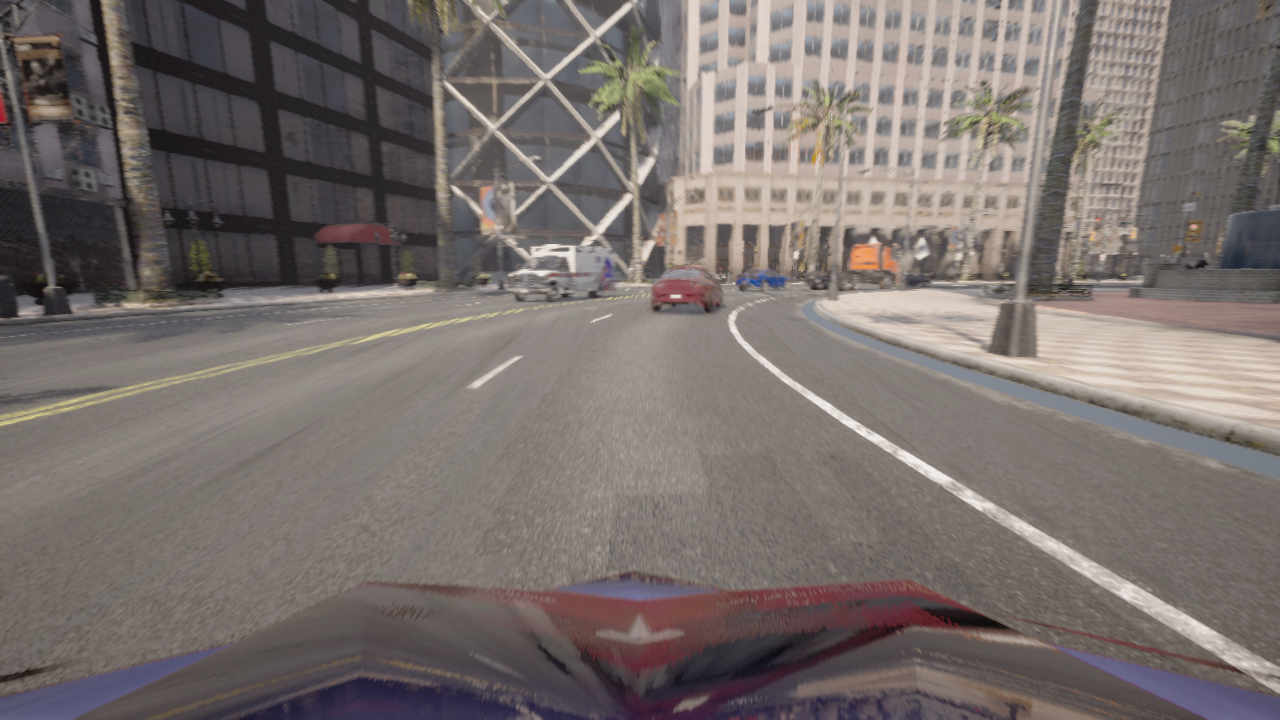cyclist: (0, 569, 1279, 719), (508, 245, 615, 302), (802, 241, 901, 291), (648, 266, 722, 312), (736, 269, 790, 290), (892, 269, 931, 287)
